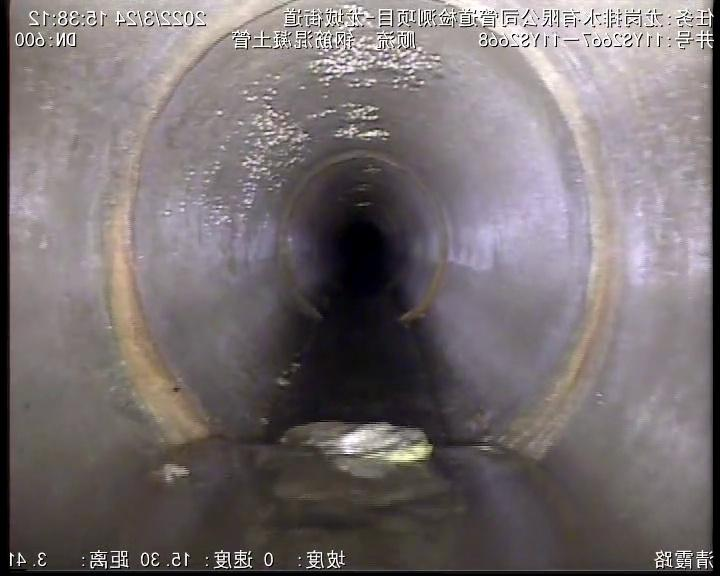CKTJ: (105, 0, 298, 444), (439, 0, 615, 446)
